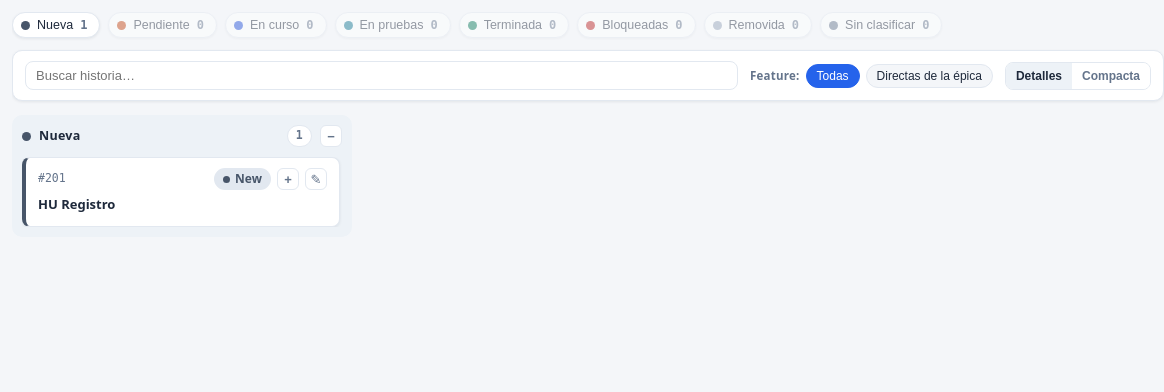
Edición QA de historias › propaga el aviso de solo lectura
Click the button named "editar historia #201 (QA)" at (316, 179), box [305, 168, 327, 190]
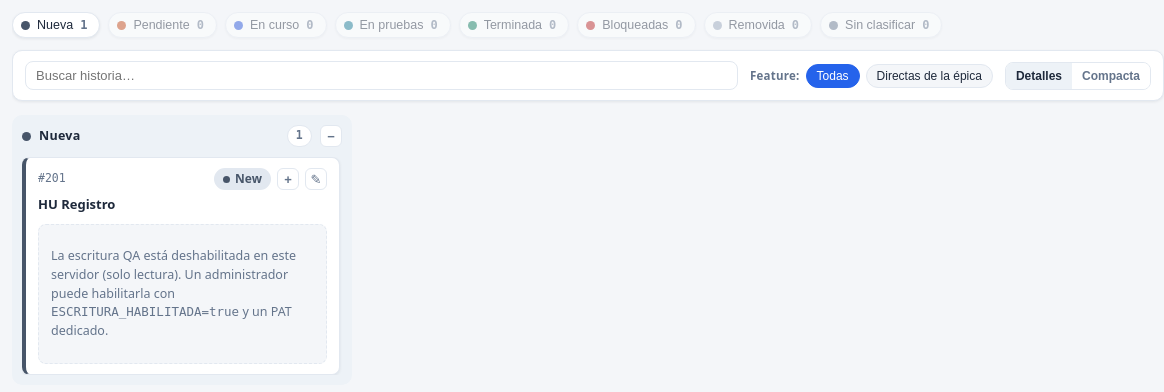
Expected: the text "ESCRITURA_HABILITADA" is shown, [51, 304, 239, 319]
